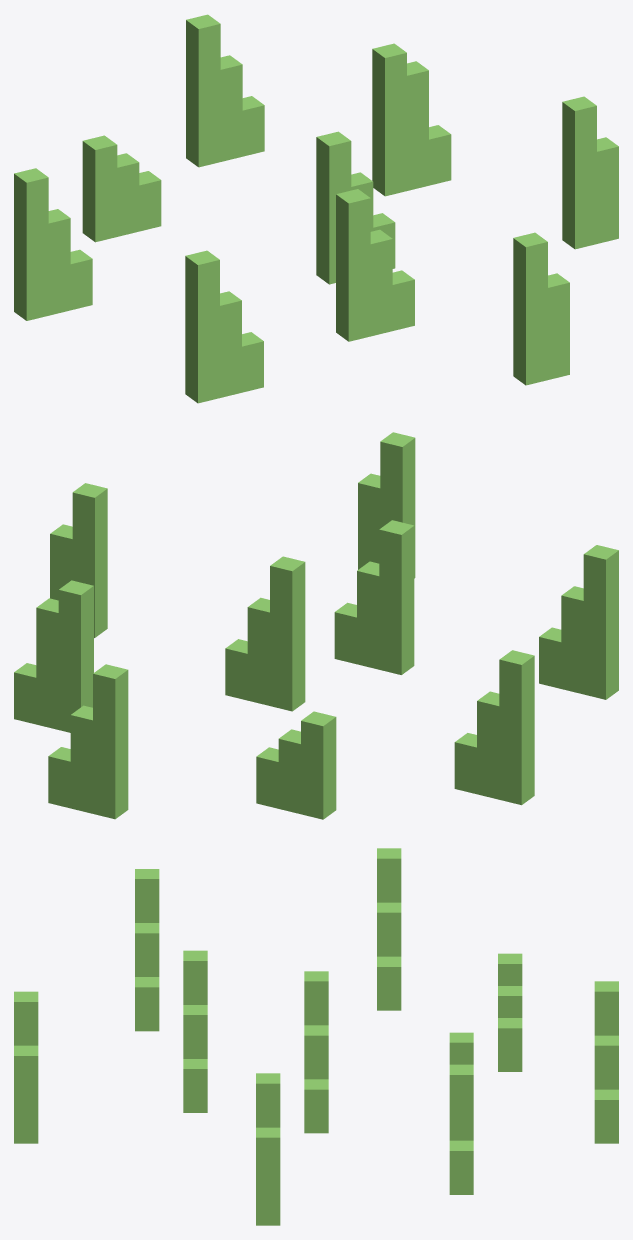
The model's file is seed.obj.
3 renders of one model, top to bottom at view 1: azimuth 30°, elevation 25°; view 2: azimuth 150°, elevation 25°; view 3: azimuth 270°, elevation 25°, orthographic. The views are drawn at different scales.
Size of the model in its own units: 2.4 by 0.6 by 2.5.
Materials: 1 (1 with a texture image).
